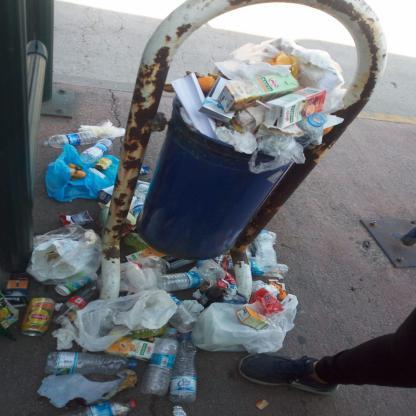Garbage: (5, 282, 202, 416), (181, 41, 343, 156), (190, 297, 314, 356), (44, 119, 115, 198), (27, 227, 100, 286), (224, 66, 300, 112), (243, 134, 313, 176), (170, 268, 235, 310), (260, 224, 294, 274), (214, 122, 264, 154), (127, 253, 165, 294), (271, 54, 304, 72), (218, 290, 236, 302)
